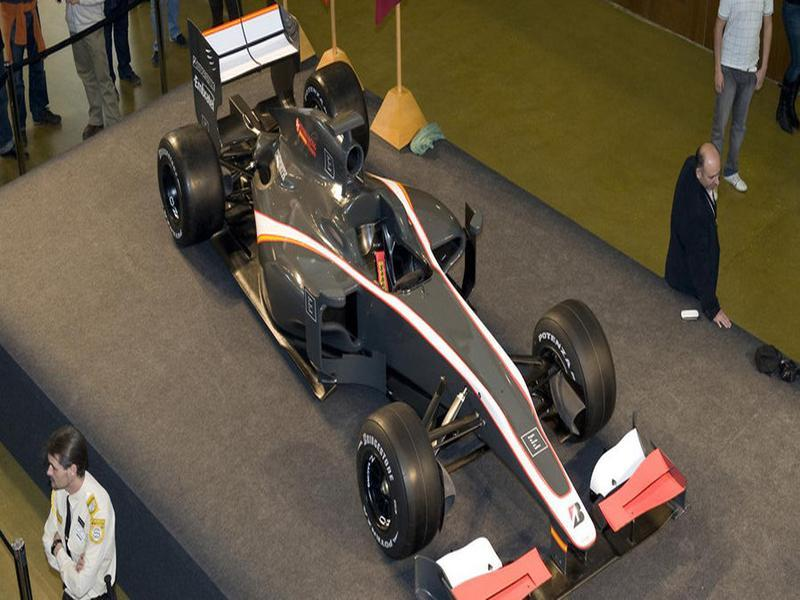f1: (137, 27, 701, 596)
